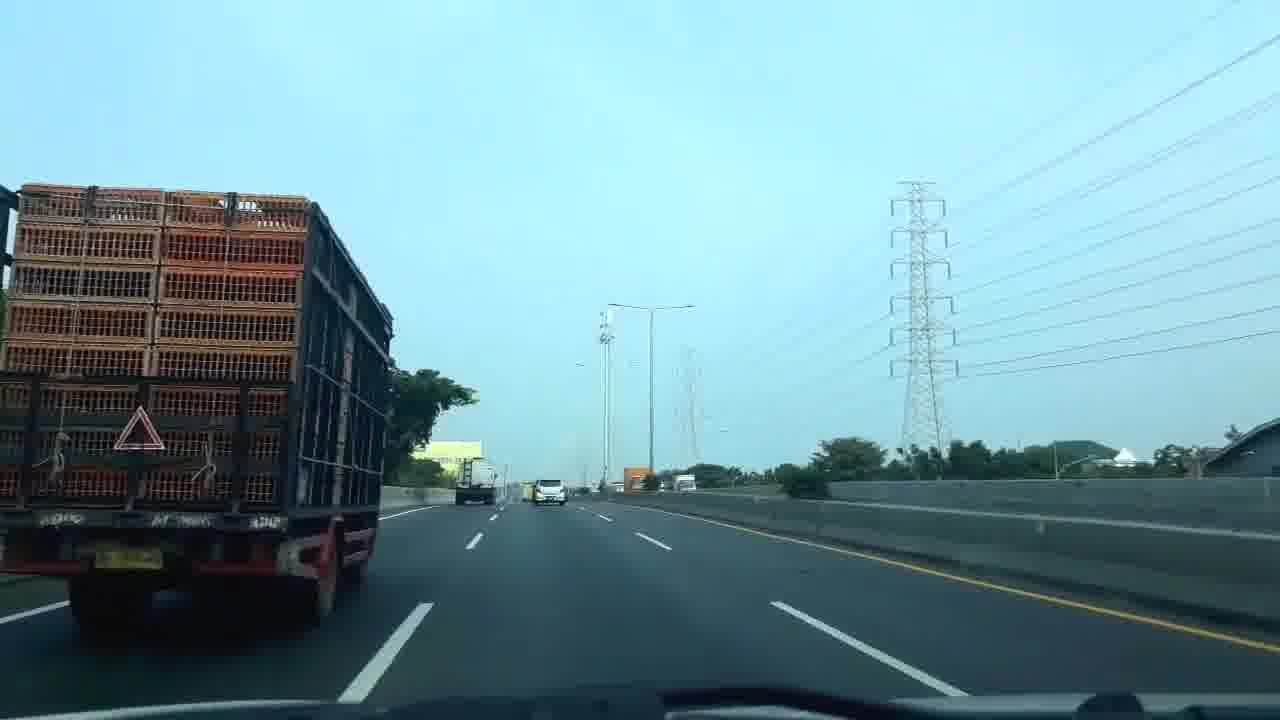plate_positive: (94, 545, 164, 570)
